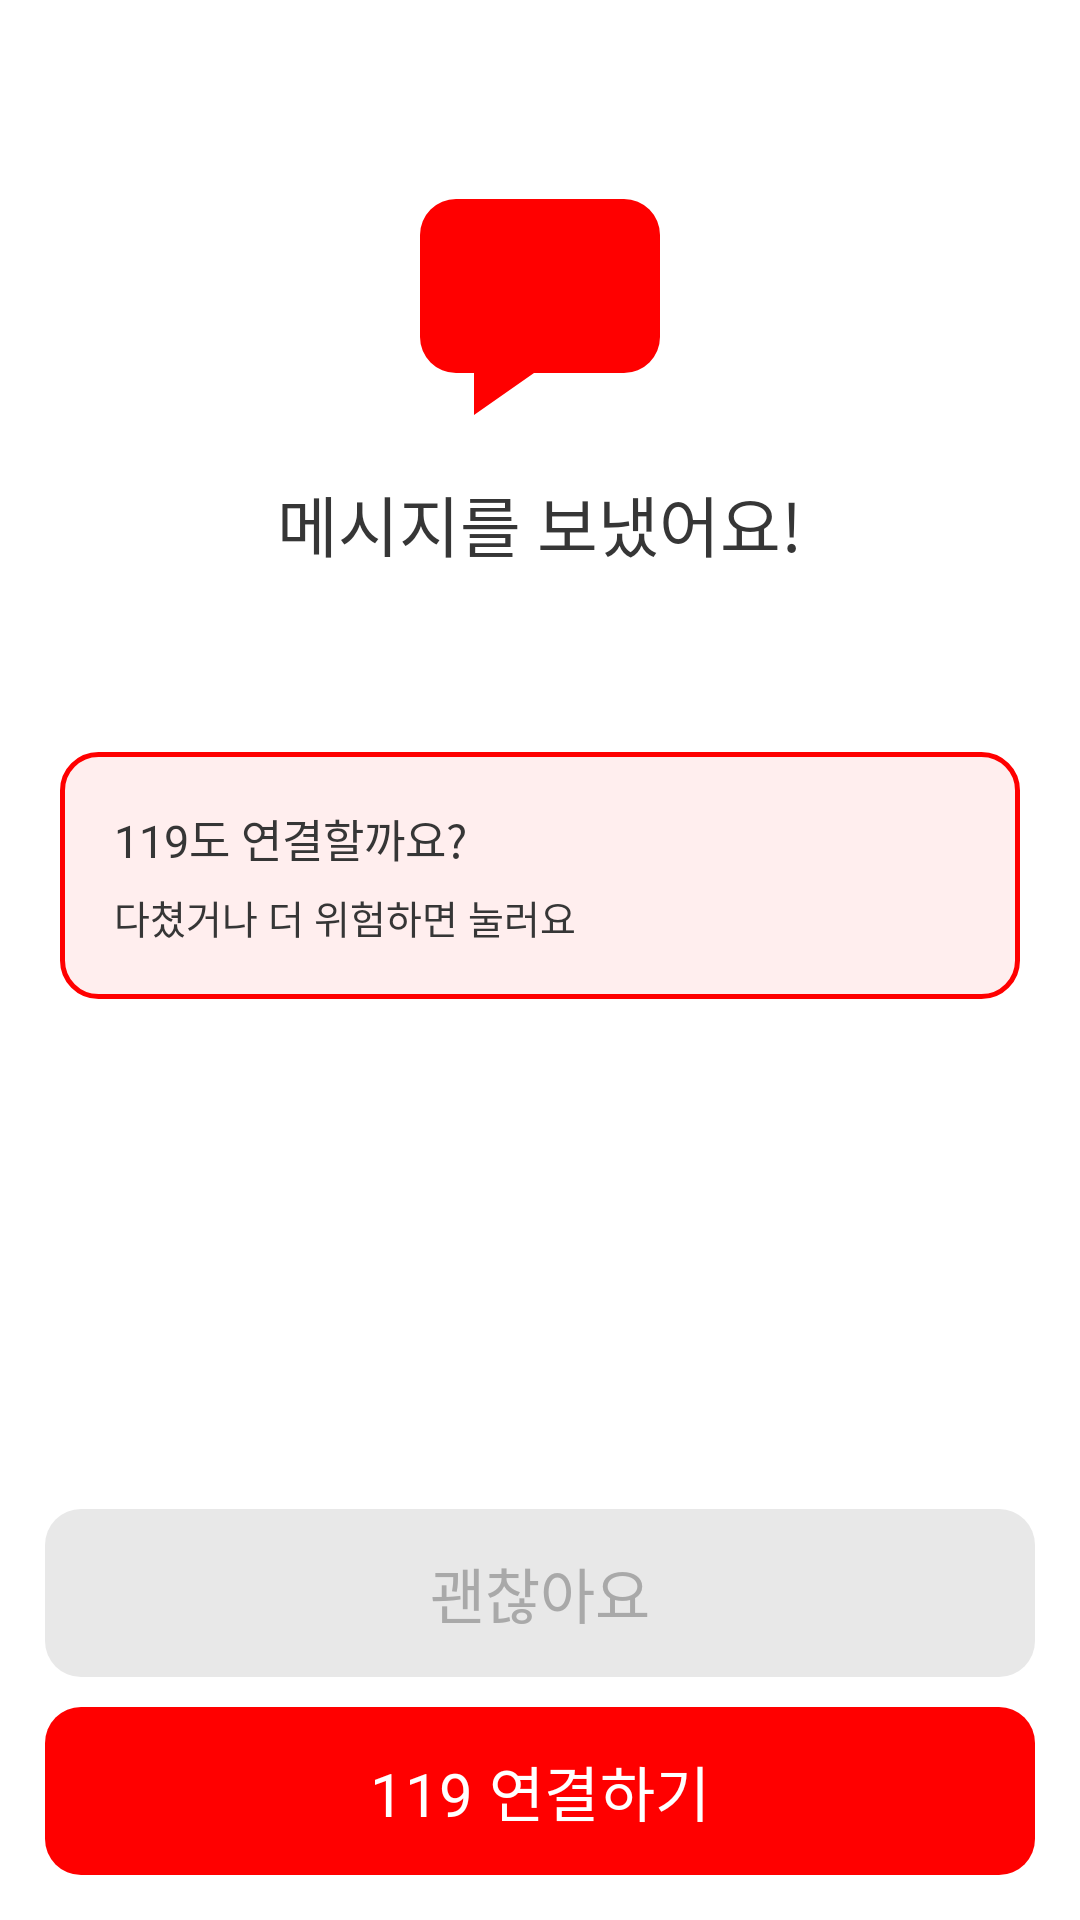

Named icons in this screenshot (1080x1920) and their centers, point (x, y):
message sent: point (540, 307)
